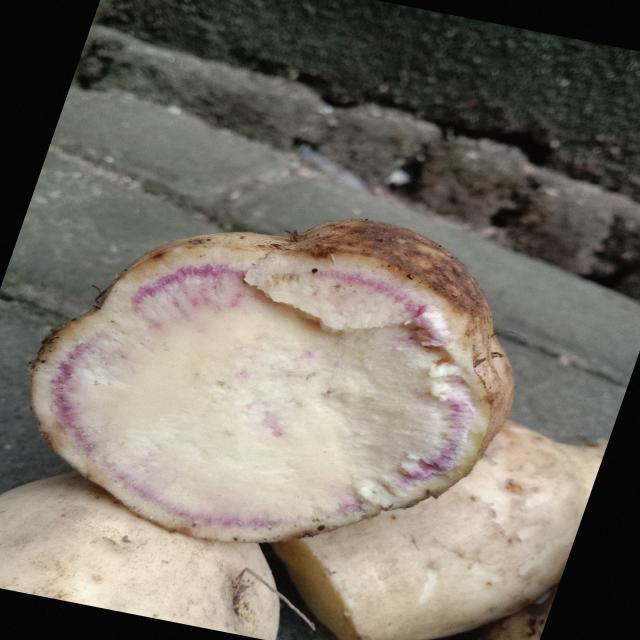Healthy Sweet Potato: (32, 225, 513, 541)
